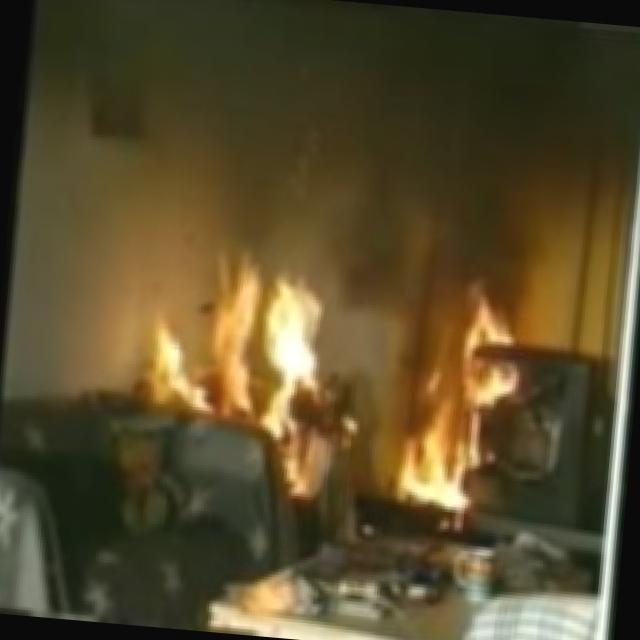fire: (118, 229, 531, 466)
